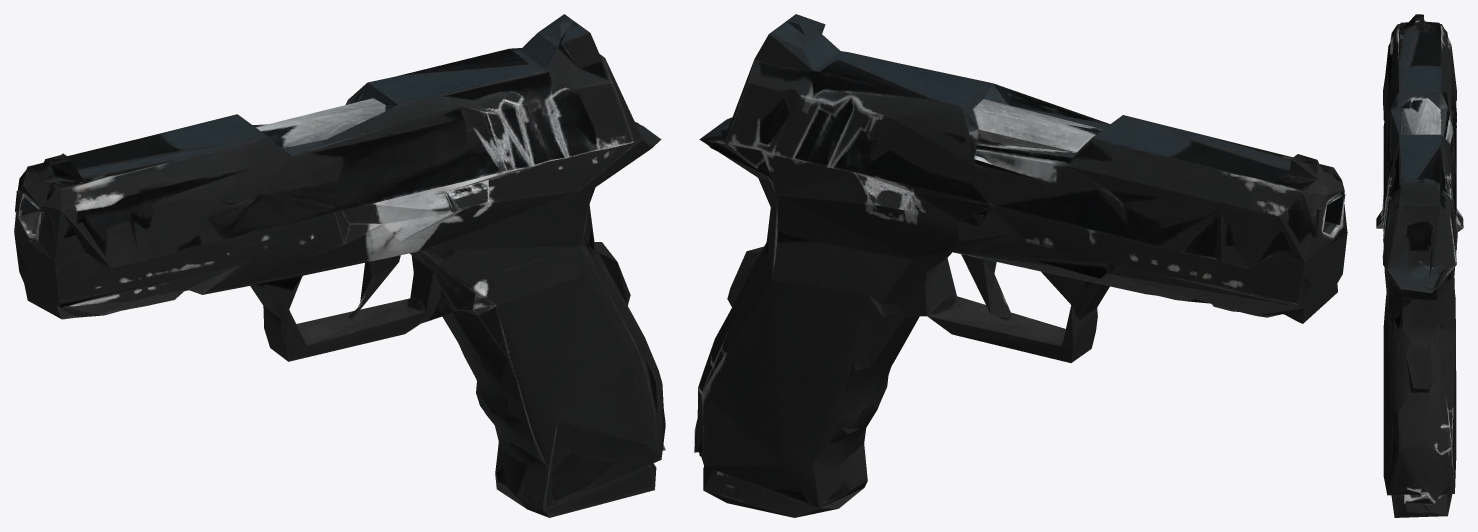
The model's file is pistol.glb.
The picture shows the model from 3 angles, left to right: view 1: azimuth 30°, elevation 25°; view 2: azimuth 150°, elevation 25°; view 3: azimuth 270°, elevation 25°; orthographic projection. The views are drawn at different scales.
Bounding box in the file's own units: 1.9 × 1.35 × 0.3361.
1 material, 1 textured.
